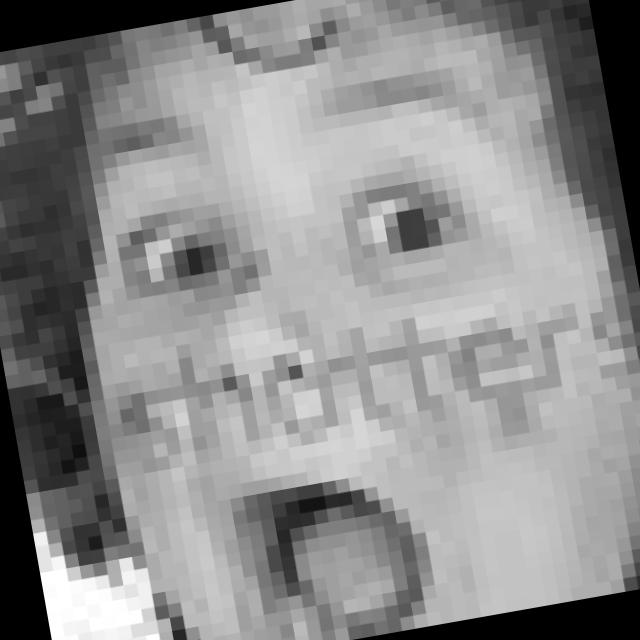surprise: (82, 49, 593, 640)
